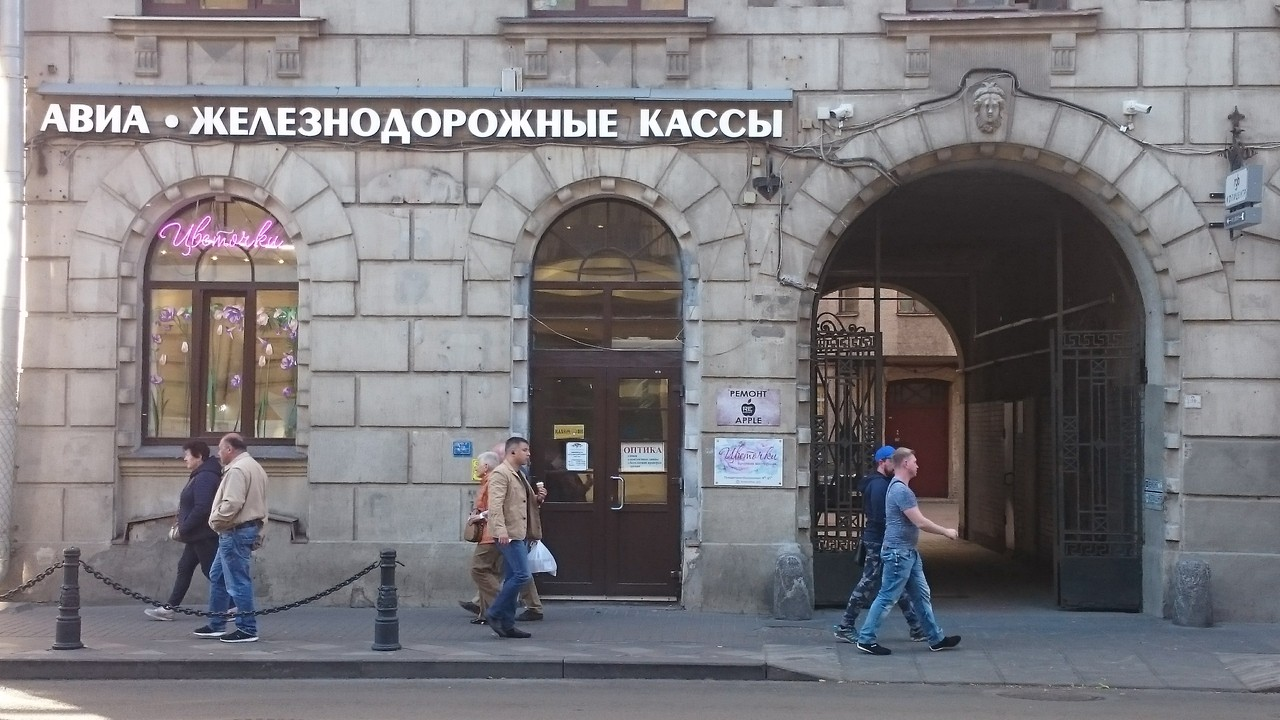arch: (810, 142, 1155, 619)
cantilever: (1206, 140, 1262, 237)
door: (531, 367, 676, 600)
signboard: (39, 102, 782, 138)
window: (139, 190, 301, 443), (532, 192, 684, 356)
